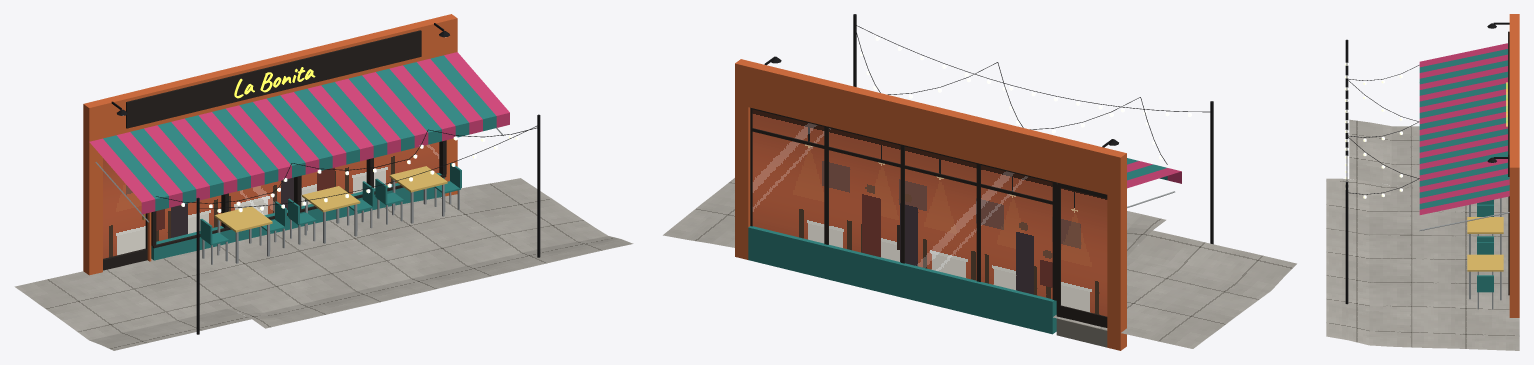
Rendered from la_bonita.glb.
3 views of the same model, side by side, from view 1: azimuth 30°, elevation 25°; view 2: azimuth 150°, elevation 25°; view 3: azimuth 270°, elevation 25° (orthographic). The views are drawn at different scales.
Visible parts, largest first — view 1: LaBonita; view 2: LaBonita; view 3: LaBonita.
Boxes of the visible parts, x1,y1,x2,y2 form: LaBonita: (14, 14, 633, 350); LaBonita: (663, 14, 1296, 350); LaBonita: (1326, 14, 1519, 350).
Size of what is drawn, in the model's own units: 11 by 3.85 by 4.25.
17 materials, 2 textured.
